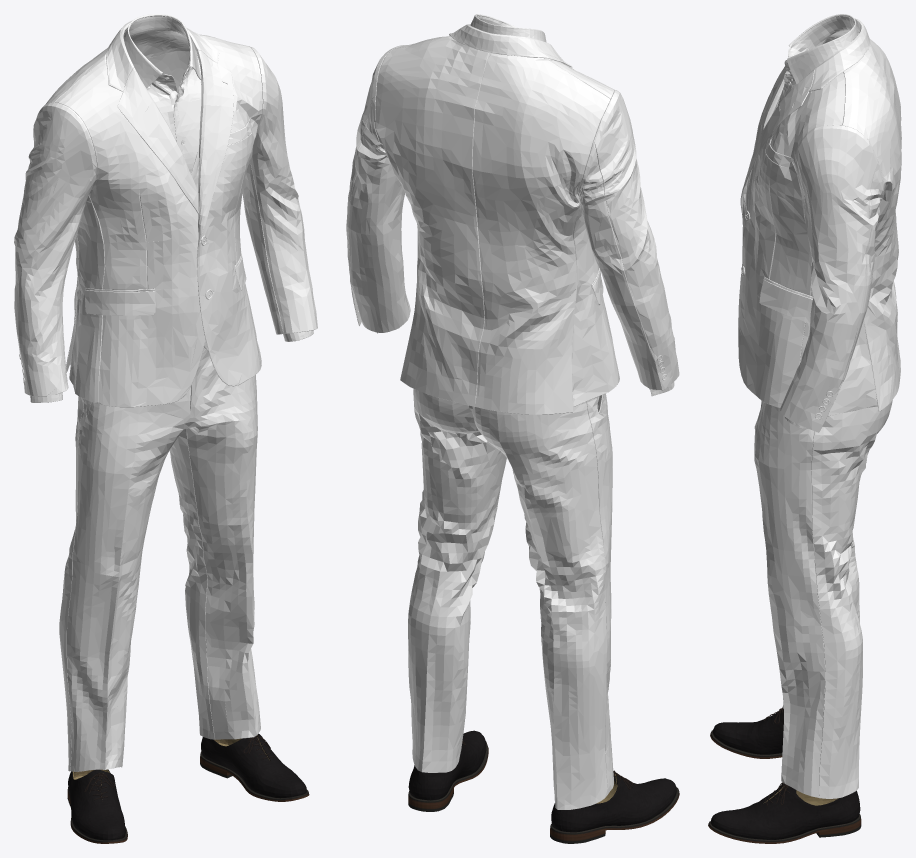
File: Mens_Suit_2.slim.glb
3 renders of one model, left to right at view 1: azimuth 30°, elevation 25°; view 2: azimuth 150°, elevation 25°; view 3: azimuth 270°, elevation 25°, orthographic. The views are drawn at different scales.
Parts seen in each view (by area): view 1: Mens_Jacket_2, Mens_Trousers_1, Mens_Shirt_4, Mens_Shoes_12_Left, Mens_Shoes_12_Right; view 2: Mens_Jacket_2, Mens_Trousers_1, Mens_Shoes_12_Right, Mens_Shoes_12_Left, Mens_Shirt_4; view 3: Mens_Jacket_2, Mens_Trousers_1, Mens_Shoes_12_Left, Mens_Shirt_4, Mens_Shoes_12_Right.
Part boxes in pixels (x1,y1,x2,y2): Mens_Jacket_2: (14,20,317,407); Mens_Trousers_1: (59,347,260,771); Mens_Shirt_4: (30,14,313,402); Mens_Shoes_12_Left: (200,733,309,801); Mens_Shoes_12_Right: (67,769,127,843); Mens_Jacket_2: (346,24,679,414); Mens_Trousers_1: (408,389,613,809); Mens_Shoes_12_Right: (550,770,679,843); Mens_Shoes_12_Left: (408,730,488,811); Mens_Shirt_4: (376,14,674,396); Mens_Jacket_2: (738,18,901,432); Mens_Trousers_1: (754,400,892,798); Mens_Shoes_12_Left: (708,782,861,843); Mens_Shirt_4: (777,14,858,428); Mens_Shoes_12_Right: (710,707,783,758).
Size of the model in its own units: 70.83 by 176 by 40.17.
Materials: 5 (1 with a texture image).
